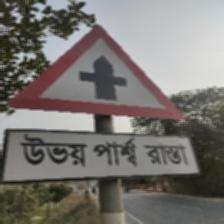Crossroad: (4, 24, 191, 223)
